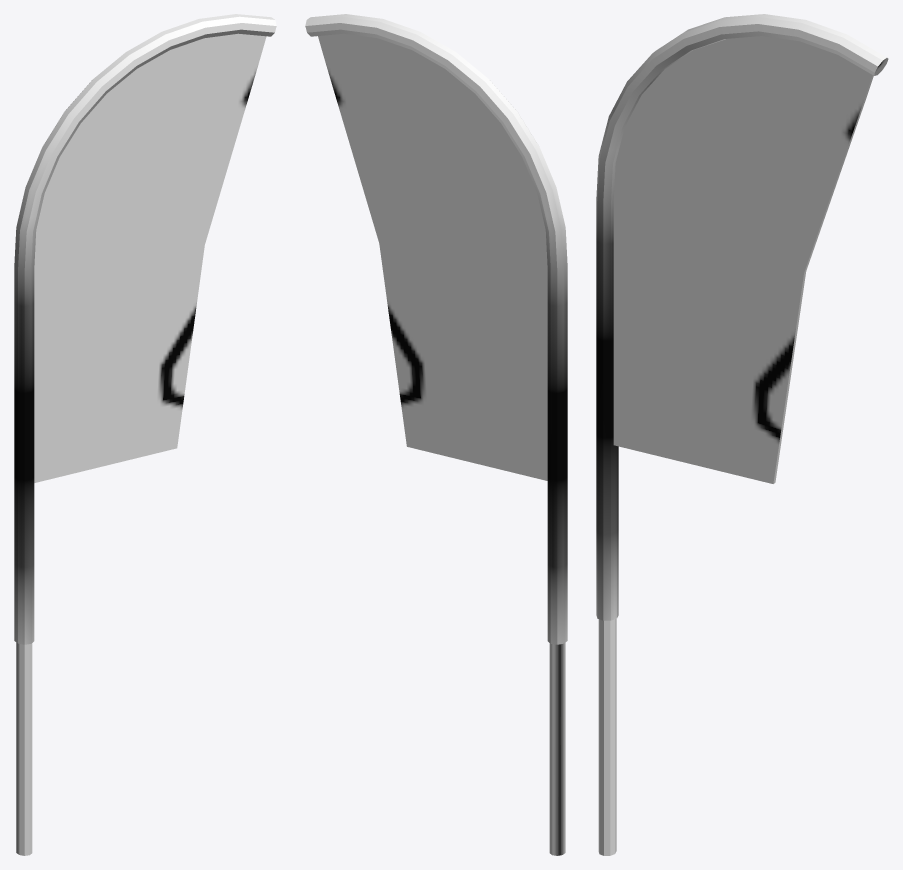
File: flag.fbx
The picture shows the model from 3 angles, left to right: view 1: azimuth 30°, elevation 25°; view 2: azimuth 150°, elevation 25°; view 3: azimuth 330°, elevation 25°; orthographic projection. The views are drawn at different scales.
Visible parts, largest first — view 1: flag_pCylinder1; view 2: flag_pCylinder1; view 3: flag_pCylinder1.
Part boxes in pixels (box(x1,y1,x2,y2)): flag_pCylinder1: box(14, 14, 276, 855); flag_pCylinder1: box(305, 14, 567, 855); flag_pCylinder1: box(596, 14, 888, 855).
Size of the model in its own units: 553 by 40.06 by 1621.
